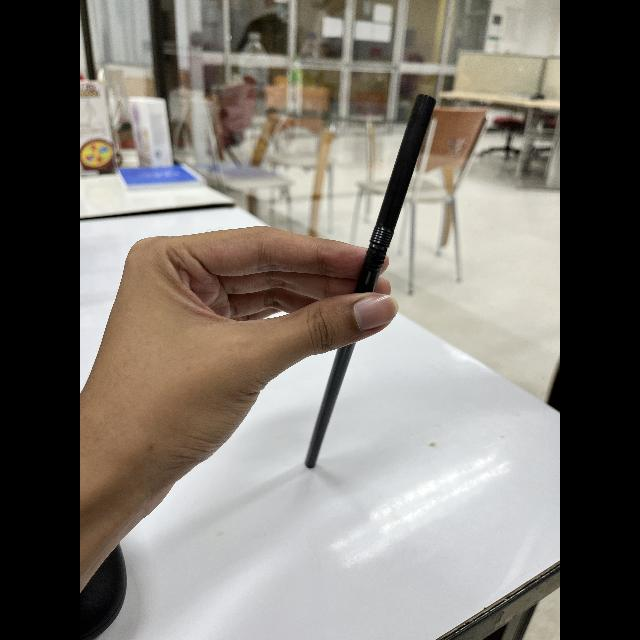straw: (304, 89, 440, 479)
